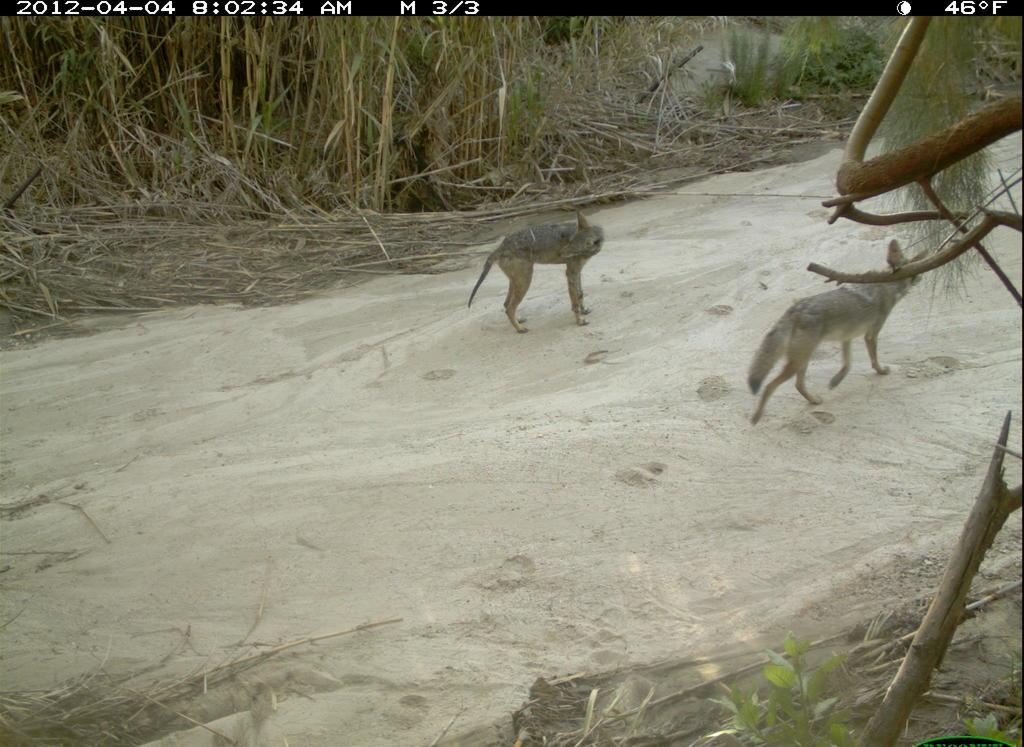coyote: (731, 245, 948, 433), (450, 200, 626, 347)
